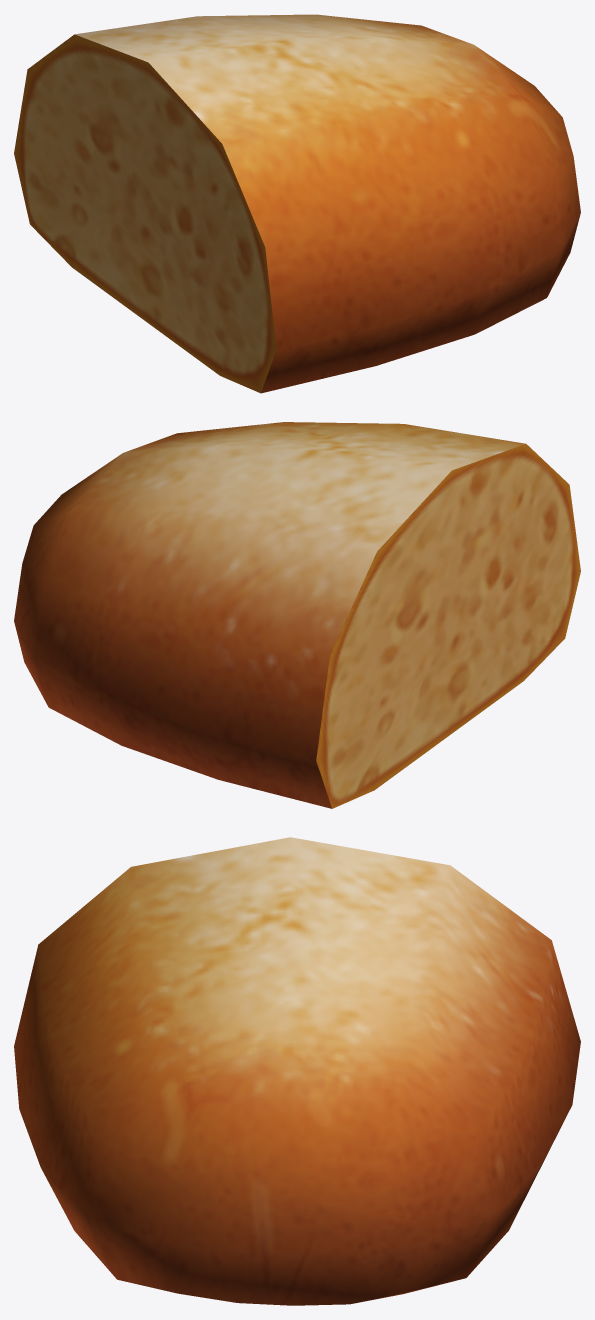
Rendered from SE_Bread_02.fbx.
The picture shows the model from 3 angles, top to bottom: view 1: azimuth 30°, elevation 25°; view 2: azimuth 150°, elevation 25°; view 3: azimuth 270°, elevation 25°; orthographic projection. The views are drawn at different scales.
Visible parts, largest first — view 1: SE_Bread_02; view 2: SE_Bread_02; view 3: SE_Bread_02.
Part boxes in pixels (<box>): SE_Bread_02: <box>14,14,580,393</box>; SE_Bread_02: <box>14,422,580,808</box>; SE_Bread_02: <box>14,837,580,1305</box>.
Size of the model in its own units: 1.4 by 0.8937 by 1.59.
